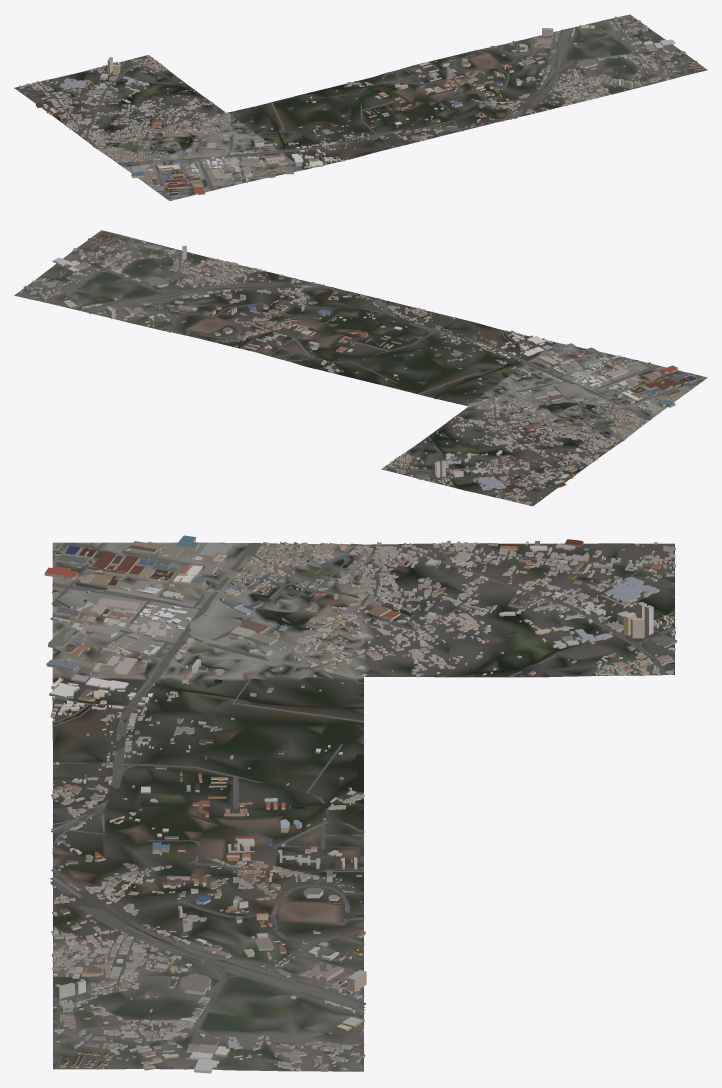
3 views of the same model, one above another, from view 1: azimuth 30°, elevation 25°; view 2: azimuth 150°, elevation 25°; view 3: azimuth 270°, elevation 25° (orthographic). The views are drawn at different scales.
Parts seen in each view (by area): view 1: ground, buildings, roads, water; view 2: ground, buildings, roads; view 3: ground, buildings, roads, water.
Boxes of the visible parts, x1,y1,x2,y2 form: ground: (14, 14, 707, 200); buildings: (18, 16, 704, 199); roads: (36, 18, 707, 190); water: (256, 53, 648, 158); ground: (14, 230, 707, 506); buildings: (20, 231, 703, 505); roads: (28, 230, 660, 500); ground: (52, 542, 674, 1071); buildings: (44, 535, 677, 1073); roads: (50, 543, 675, 1071); water: (53, 679, 363, 1042).
Size of the model in its own units: 5681 by 147 by 2850.
